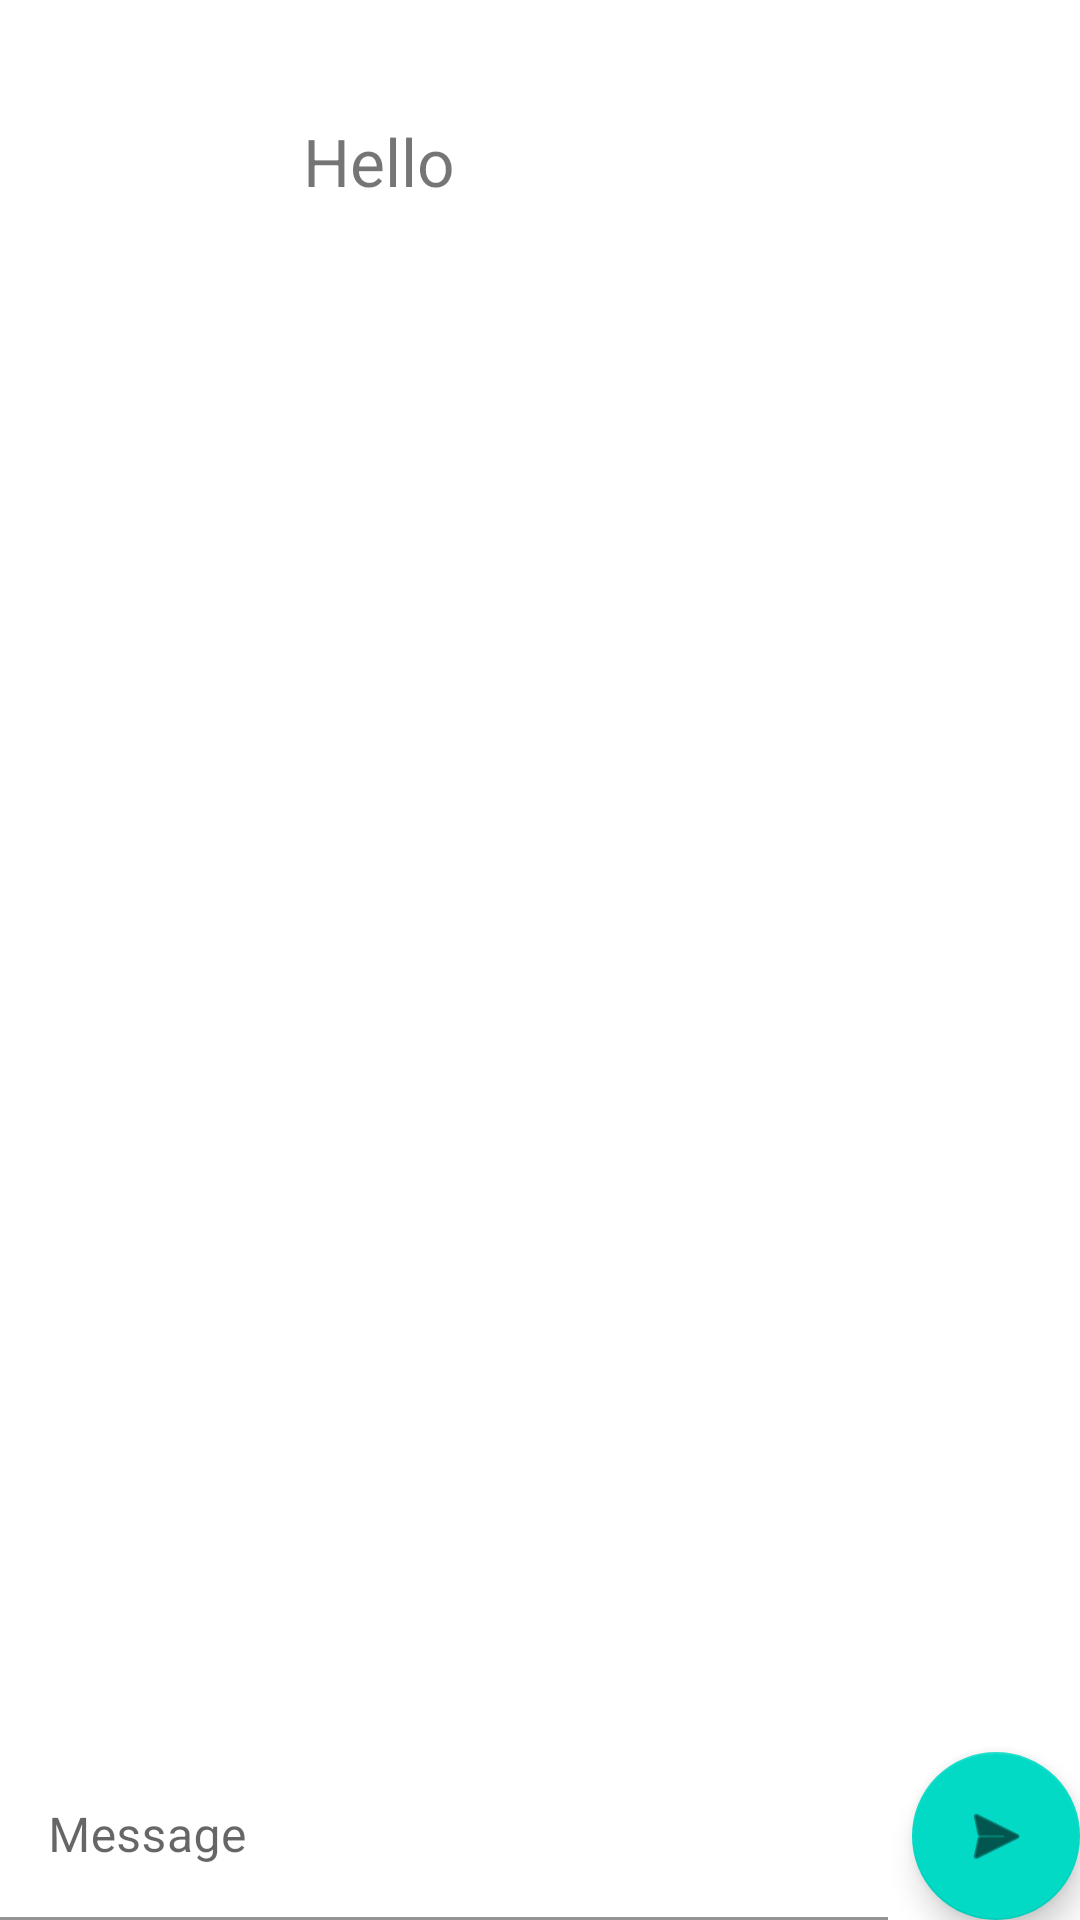

Locate icon controls on the screen. Image size 1080 x 1920, boxes as bbox(x1, y1, x2, y2).
send: bbox(912, 1752, 1080, 1920)
